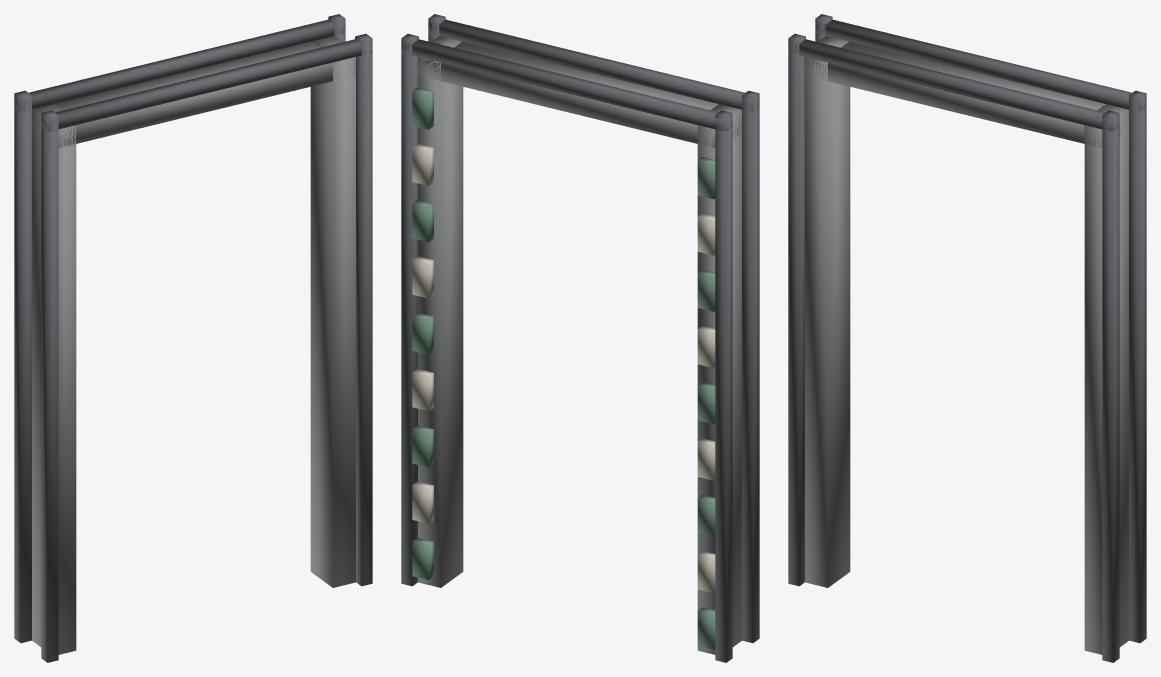
Rendered from doorway_tile_return_w106_h200_d16.glb.
3 renders of one model, left to right at view 1: azimuth 30°, elevation 25°; view 2: azimuth 150°, elevation 25°; view 3: azimuth 330°, elevation 25°, orthographic.
Parts seen in each view (by area): view 1: world; view 2: world; view 3: world.
Boxes of the visible parts, x1=… form: world: x1=14, y1=14, x2=372, y2=662; world: x1=401, y1=14, x2=759, y2=662; world: x1=788, y1=14, x2=1146, y2=662.
Bounding box in the file's own units: 1.34 × 2.15 × 0.2414.
